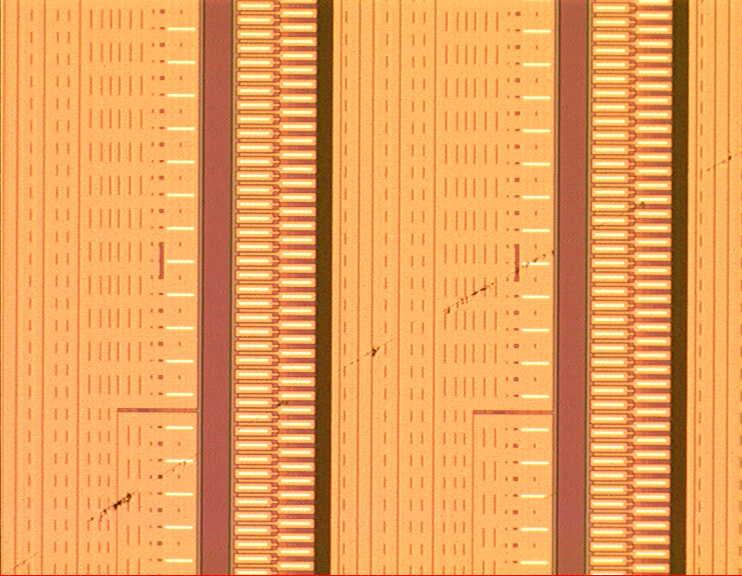SCRATCH: (1, 141, 742, 576)
